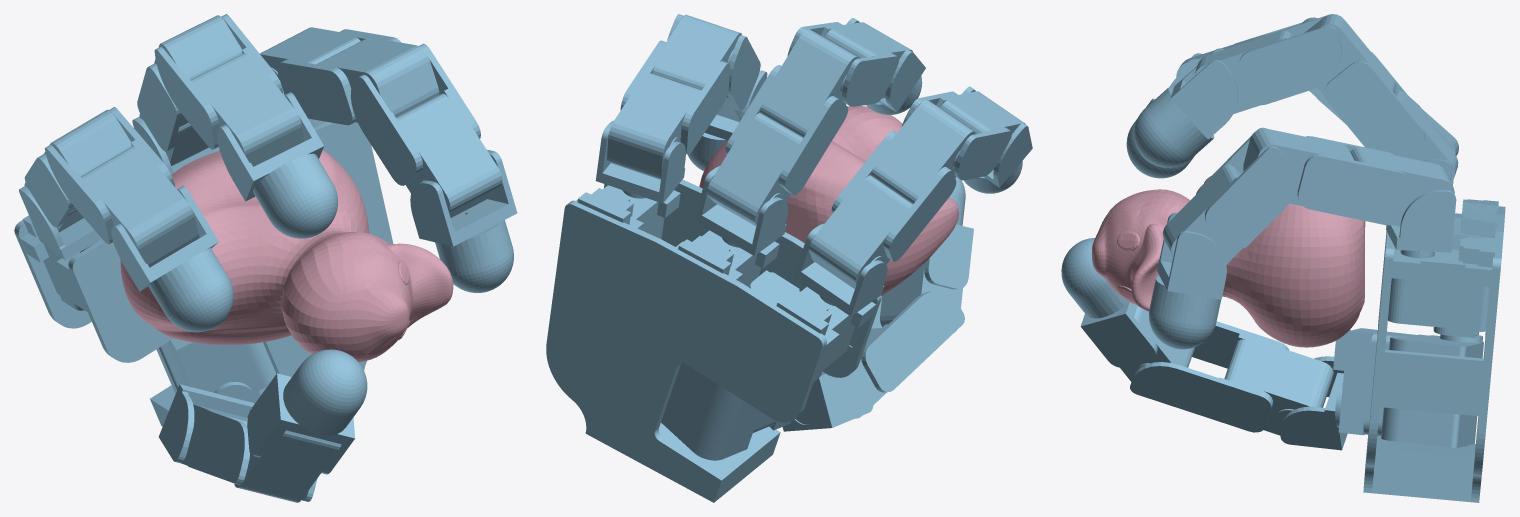
3 renders of one model, left to right at view 1: azimuth 30°, elevation 25°; view 2: azimuth 150°, elevation 25°; view 3: azimuth 270°, elevation 25°, orthographic. The views are drawn at different scales.
Visible parts, largest first — view 1: world, rubber_duck.stl; view 2: world, rubber_duck.stl; view 3: world, rubber_duck.stl.
Boxes of the visible parts, box(x1,y1,x2,y2) form: world: box(14, 14, 517, 502); rubber_duck.stl: box(120, 150, 453, 362); world: box(546, 14, 1032, 502); rubber_duck.stl: box(699, 106, 958, 295); world: box(1061, 14, 1505, 502); rubber_duck.stl: box(1091, 176, 1365, 347).
Size of the model in its own units: 0.1475 by 0.1713 by 0.1558.
